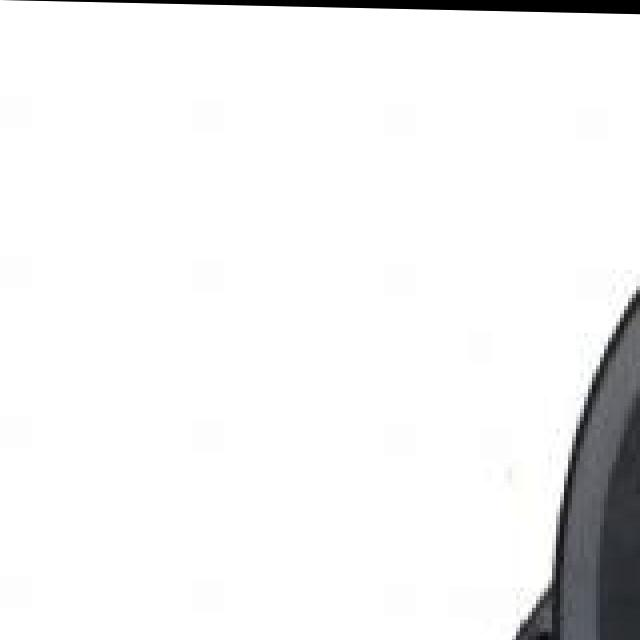buzzer: (512, 169, 640, 640)
